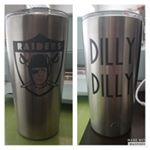cups: (4, 5, 74, 143), (78, 7, 145, 140)
